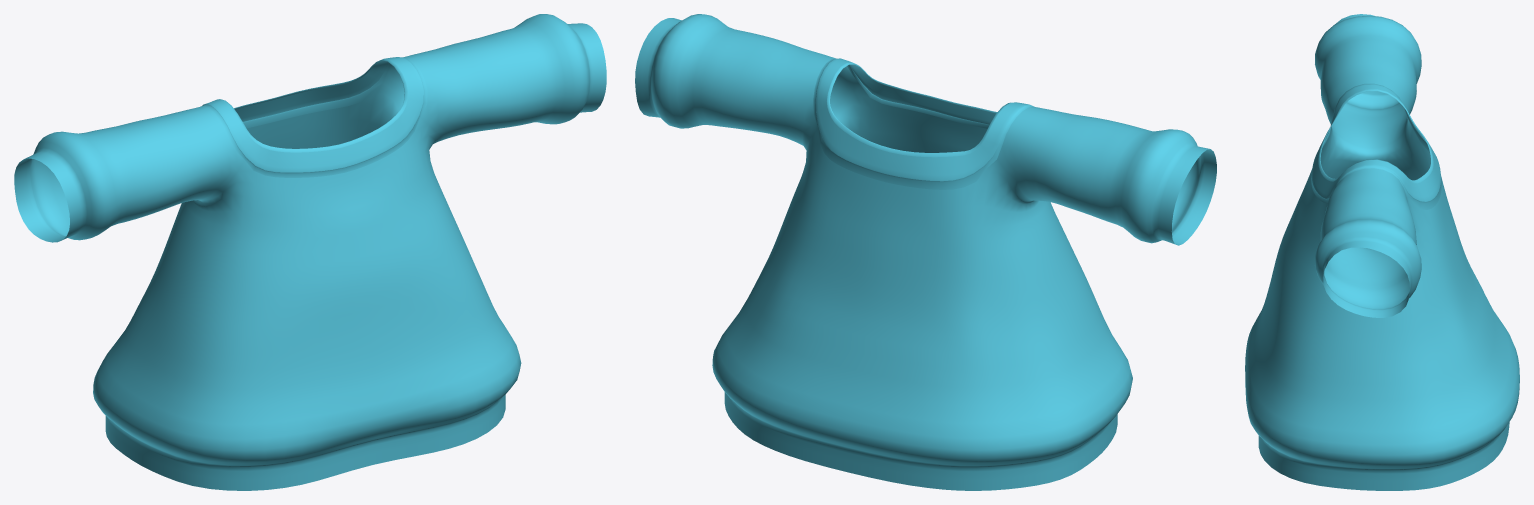
The model's file is Top_BasicPullover.fbx.
3 views of the same model, side by side, from view 1: azimuth 30°, elevation 25°; view 2: azimuth 150°, elevation 25°; view 3: azimuth 270°, elevation 25° (orthographic). The views are drawn at different scales.
Visible parts, largest first — view 1: Pullover_base_simple_finished; view 2: Pullover_base_simple_finished; view 3: Pullover_base_simple_finished.
Boxes of the visible parts, x1=… form: Pullover_base_simple_finished: x1=14, y1=14, x2=606, y2=490; Pullover_base_simple_finished: x1=635, y1=14, x2=1216, y2=490; Pullover_base_simple_finished: x1=1245, y1=14, x2=1519, y2=490.
Size of the model in its own units: 167 by 98.59 by 82.71.
